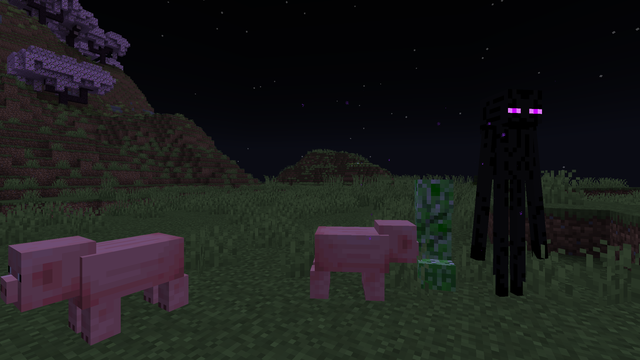cochons: (61, 230, 185, 350), (308, 222, 389, 311)
creepers: (409, 174, 453, 290)
endermens: (483, 78, 541, 308)
